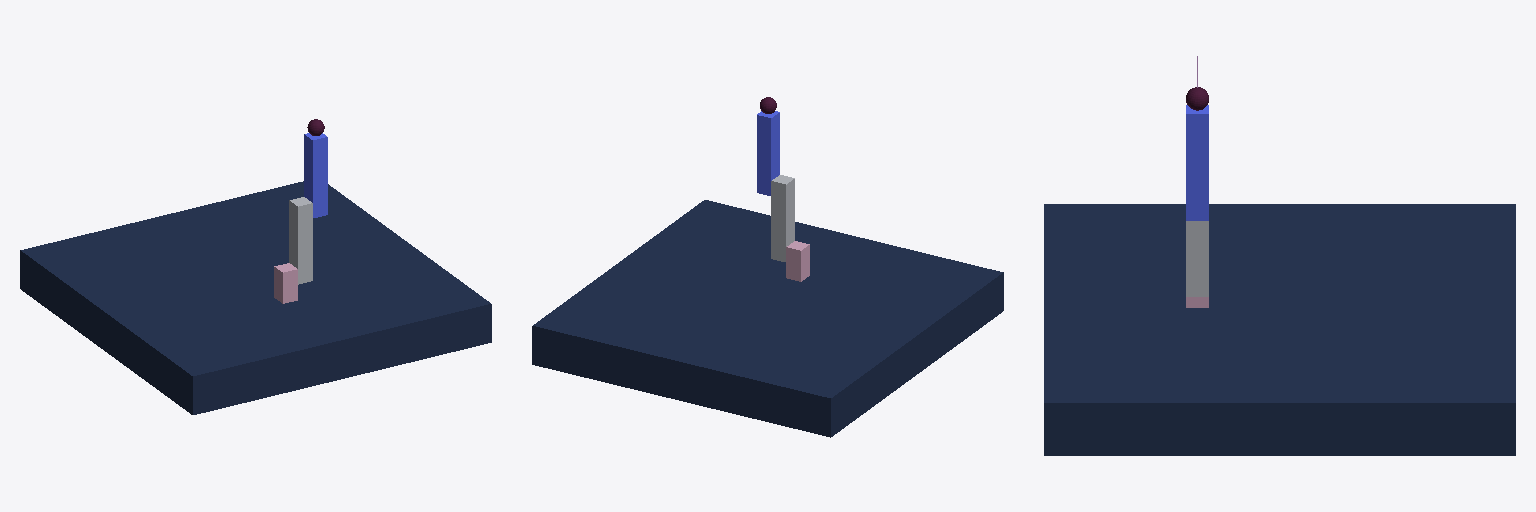
robot.urdf — materials:
<?xml version="1.0" ?>
<robot name="materials">
    <!-- Define materials -->
    <material name="color_1">
        <color rgba="0.173 0.231 0.349 1" />
    </material>
    <material name="color_2">
        <color rgba="0.318 0.137 0.255 1" />
    </material>
    <material name="color_3">
        <color rgba="0.839 0.678 0.773 1" />
    </material>
    <material name="color_4">
        <color rgba="0.953 0.737 1.0 1" />
    </material>
    <material name="color_5">
        <color rgba="0.749 0.765 0.788 1" />
    </material>
    <material name="color_6">
        <color rgba="0.91 0.49 0.839 1" />
    </material>
    <material name="color_7">
        <color rgba="0.373 0.451 0.957 1" />
    </material>
    <material name="color_8">
        <color rgba="0.318 0.337 0.051 1" />
    </material>
    <!-- Define robot -->
    <!-- Base -->
    <link name="base_link">
        <visual>
            <geometry>
                <box size="4.0 4.0 0.5" />
            </geometry>
            <origin rpy="0 0 0" xyz="0 0 -0.95" />
            <material name="color_1" />
        </visual>
        <collision>
            <geometry>
                <box size="4.0 4.0 0.5" />
            </geometry>
            <origin rpy="0 0 0" xyz="0 0 -0.95" />
        </collision>
        <inertial>
            <mass value="0.1" />
            <origin xyz="0 0 0" rpy="0 0 0" />
            <inertia ixx="0.03" iyy="0.03" izz="0.03" ixy="0.0" ixz="0.0" iyz="0.0" />
        </inertial>
    </link>
    <!-- Arm 1 -->
    <link name="arm_1">
        <visual>
            <geometry>
                <box size="0.2 0.2 0.4" />
            </geometry>
            <origin rpy="0 0 0" xyz="0 0 0.2" />
            <material name="color_3" />
        </visual>
        <collision>
            <geometry>
                <box size="0.2 0.2 0.4" />
            </geometry>
            <origin rpy="0 0 0" xyz="0 0 0.2" />
        </collision>
        <inertial>
            <mass value="0.1" />
            <origin xyz="0 0 0" rpy="0 0 0" />
            <inertia ixx="0.03" iyy="0.03" izz="0.03" ixy="0.0" ixz="0.0" iyz="0.0" />
        </inertial>
    </link>
    <!-- Arm 2 -->
    <link name="arm_2">
        <visual>
            <geometry>
                <box size="0.2 0.2 1.0" />
            </geometry>
            <origin rpy="0 0 0" xyz="0.1 0 0.4" />
            <material name="color_5" />
        </visual>
        <collision>
            <geometry>
                <box size="0.2 0.2 1.0" />
            </geometry>
            <origin rpy="0 0 0" xyz="0.1 0 0.4" />
        </collision>
        <inertial>
            <mass value="0.1" />
            <origin xyz="0 0 0" rpy="0 0 0" />
            <inertia ixx="0.03" iyy="0.03" izz="0.03" ixy="0.0" ixz="0.0" iyz="0.0" />
        </inertial>
    </link>
    <!-- Arm 3 -->
    <link name="arm_3">
        <visual>
            <geometry>
                <box size="0.2 0.2 1.0" />
            </geometry>
            <origin rpy="0 0 0" xyz="0.1 0 0.4" />
            <material name="color_7" />
        </visual>
        <collision>
            <geometry>
                <box size="0.2 0.2 1.0" />
            </geometry>
            <origin rpy="0 0 0" xyz="0.1 0 0.4" />
        </collision>
        <inertial>
            <mass value="0.1" />
            <origin xyz="0 0 0" rpy="0 0 0" />
            <inertia ixx="0.03" iyy="0.03" izz="0.03" ixy="0.0" ixz="0.0" iyz="0.0" />
        </inertial>
    </link>
    <!-- Arm 4 5 6 -->
    <link name="arm_4" />
    <link name="arm_5" />
    <link name="arm_6">
        <visual>
            <geometry>
                <sphere radius="0.1" />
            </geometry>
            <origin rpy="0 0 0" xyz="0 0 0" />
            <material name="color_2" />
        </visual>
        <collision>
            <geometry>
                <sphere radius="0.1" />
            </geometry>
            <origin rpy="0 0 0" xyz="0 0 0" />
        </collision>
        <inertial>
            <mass value="0.1" />
            <origin xyz="0 0 0" rpy="0 0 0" />
            <inertia ixx="0.03" iyy="0.03" izz="0.03" ixy="0.0" ixz="0.0" iyz="0.0" />
        </inertial>
    </link>
    <!-- End effector -->
    <link name="end_effector">
        <visual>
            <geometry>
                <cylinder length="0.4" radius="0.002" />
            </geometry>
            <origin rpy="0 0 0" xyz="0 0 0.2" />
            <material name="color_4" />
        </visual>
        <collision>
            <geometry>
                <cylinder length="0.4" radius="0.002" />
            </geometry>
            <origin rpy="0 0 0" xyz="0 0 0.2" />
        </collision>
        <inertial>
            <mass value="0.1" />
            <origin xyz="0 0 0" rpy="0 0 0" />
            <inertia ixx="0.03" iyy="0.03" izz="0.03" ixy="0.0" ixz="0.0" iyz="0.0" />
        </inertial>
    </link>
    <!-- Define joints -->
    <joint name="base_to_part_1" type="revolute">
        <parent link="base_link" />
        <child link="arm_1" />
        <origin rpy="0 0 0" xyz="0 -0.7 -0.7" />
        <axis xyz="0 0 1" />
        <limit effort="20" lower="-6.28" upper="6.28" velocity="1.57" />
    </joint>
    <joint name="arm_1_to_arm_2" type="revolute">
        <parent link="arm_1" />
        <child link="arm_2" />
        <origin rpy="0 0 0" xyz="0.1 0 0.3" />
        <axis xyz="1 0 0" />
        <limit effort="20" lower="-6.28" upper="6.28" velocity="1.57" />
    </joint>
    <joint name="arm_2_to_arm_3" type="revolute">
        <parent link="arm_2" />
        <child link="arm_3" />
        <origin rpy="0 0 0" xyz="0.2 0 0.8" />
        <axis xyz="1 0 0" />
        <limit effort="20" lower="-6.28" upper="6.28" velocity="1.57" />
    </joint>
    <joint name="arm_3_to_arm_4" type="revolute">
        <parent link="arm_3" />
        <child link="arm_4" />
        <origin rpy="0 0 0" xyz="0.1 0 1.0" />
        <axis xyz="0 0 1" />
        <limit effort="20" lower="-6.28" upper="6.28" velocity="1.57" />
    </joint>
    <joint name="arm_4_to_arm_5" type="revolute">
        <parent link="arm_4" />
        <child link="arm_5" />
        <origin rpy="0 0 0" xyz="0 0 0" />
        <axis xyz="0 1 0" />
        <limit effort="20" lower="-6.28" upper="6.28" velocity="1.57" />
    </joint>
    <joint name="arm_5_to_arm_6" type="revolute">
        <parent link="arm_5" />
        <child link="arm_6" />
        <origin rpy="0 0 0" xyz="0 0 0" />
        <axis xyz="1 0 0" />
        <limit effort="20" lower="-6.28" upper="6.28" velocity="1.57" />
    </joint>
    <joint name="arm_6_to_end_effector" type="revolute">
        <parent link="arm_6" />
        <child link="end_effector" />
        <origin rpy="0 0 0" xyz="0 0 0" />
        <axis xyz="0 0 1" />
        <limit effort="0" lower="0" upper="0" velocity="0" />
    </joint>
    <transmission name="trans_base_to_part_1">
        <type>transmission_interface/SimpleTransmission</type>
        <joint name="base_to_part_1">
            <hardwareInterface>hardware_interface/EffortJointInterface</hardwareInterface>
        </joint>
        <actuator name="base_to_part_1_motor">
            <hardwareInterface>hardware_interface/EffortJointInterface</hardwareInterface>
            <mechanicalReduction>1</mechanicalReduction>
        </actuator>
    </transmission>
    <transmission name="trans_arm_1_to_arm_2">
        <type>transmission_interface/SimpleTransmission</type>
        <joint name="arm_1_to_arm_2">
            <hardwareInterface>hardware_interface/EffortJointInterface</hardwareInterface>
        </joint>
        <actuator name="arm_1_to_arm_2_motor">
            <hardwareInterface>hardware_interface/EffortJointInterface</hardwareInterface>
            <mechanicalReduction>1</mechanicalReduction>
        </actuator>
    </transmission>
    <transmission name="trans_arm_2_to_arm_3">
        <type>transmission_interface/SimpleTransmission</type>
        <joint name="arm_2_to_arm_3">
            <hardwareInterface>hardware_interface/EffortJointInterface</hardwareInterface>
        </joint>
        <actuator name="arm_2_to_arm_3_motor">
            <hardwareInterface>hardware_interface/EffortJointInterface</hardwareInterface>
            <mechanicalReduction>1</mechanicalReduction>
        </actuator>
    </transmission>
    <transmission name="trans_arm_3_to_arm_4">
        <type>transmission_interface/SimpleTransmission</type>
        <joint name="arm_3_to_arm_4">
            <hardwareInterface>hardware_interface/EffortJointInterface</hardwareInterface>
        </joint>
        <actuator name="arm_3_to_arm_4_motor">
            <hardwareInterface>hardware_interface/EffortJointInterface</hardwareInterface>
            <mechanicalReduction>1</mechanicalReduction>
        </actuator>
    </transmission>
    <transmission name="trans_arm_4_to_arm_5">
        <type>transmission_interface/SimpleTransmission</type>
        <joint name="arm_4_to_arm_5">
            <hardwareInterface>hardware_interface/EffortJointInterface</hardwareInterface>
        </joint>
        <actuator name="arm_4_to_arm_5_motor">
            <hardwareInterface>hardware_interface/EffortJointInterface</hardwareInterface>
            <mechanicalReduction>1</mechanicalReduction>
        </actuator>
    </transmission>
    <transmission name="trans_arm_5_to_arm_6">
        <type>transmission_interface/SimpleTransmission</type>
        <joint name="arm_5_to_arm_6">
            <hardwareInterface>hardware_interface/EffortJointInterface</hardwareInterface>
        </joint>
        <actuator name="arm_5_to_arm_6_motor">
            <hardwareInterface>hardware_interface/EffortJointInterface</hardwareInterface>
            <mechanicalReduction>1</mechanicalReduction>
        </actuator>
    </transmission>
    <transmission name="trans_arm_6_to_end_effector">
        <type>transmission_interface/SimpleTransmission</type>
        <joint name="arm_6_to_end_effector">
            <hardwareInterface>hardware_interface/EffortJointInterface</hardwareInterface>
        </joint>
        <actuator name="arm_6_to_end_effector_motor">
            <hardwareInterface>hardware_interface/EffortJointInterface</hardwareInterface>
            <mechanicalReduction>1</mechanicalReduction>
        </actuator>
    </transmission>
    <gazebo>
        <plugin name="gazebo_ros_control">
            <robotNamespace>/</robotNamespace>
        </plugin>
    </gazebo>
</robot>

--- Facts derived from the render (not from the file) ---
3 views of the same robot in one strip: view 1: azimuth 30°, elevation 25°; view 2: azimuth 150°, elevation 25°; view 3: azimuth 270°, elevation 25° (orthographic).
Model materials with 8 links and 7 joints (7 revolute), rooted at base_link, posed all joints at 0.
Links seen in each view (by area): view 1: base_link, arm_2, arm_3, arm_1; view 2: base_link, arm_2, arm_3, arm_1; view 3: base_link, arm_3, arm_2.
Boxes of the visible links, <box> form: base_link: <box>20,181,491,414</box>; arm_2: <box>289,197,312,284</box>; arm_3: <box>304,133,327,217</box>; arm_1: <box>274,263,297,303</box>; base_link: <box>532,200,1003,437</box>; arm_2: <box>771,175,794,261</box>; arm_3: <box>757,111,779,195</box>; arm_1: <box>786,241,809,281</box>; base_link: <box>1044,204,1515,455</box>; arm_3: <box>1186,105,1208,220</box>; arm_2: <box>1186,221,1208,296</box>.
Bounding box of the posed robot: 4 × 4 × 3 m (x, y, z).
Geometry: primitives only (box / cylinder / sphere), no mesh files.